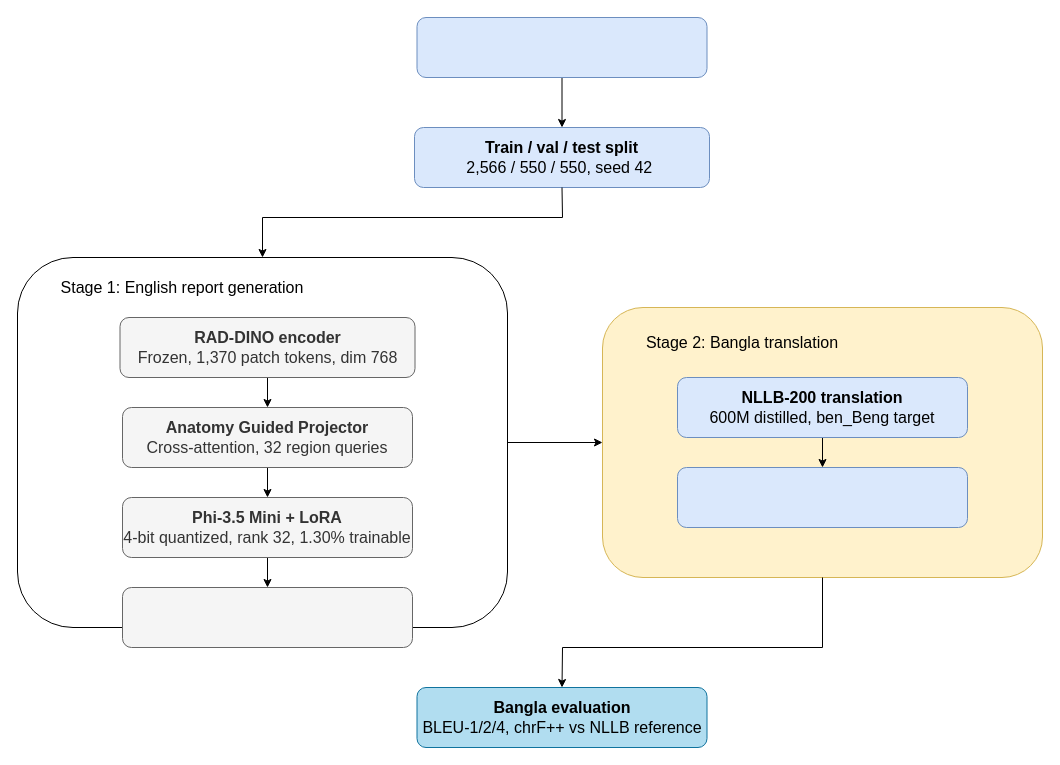
Image size: 1060x765. Some labels were removed from this diagram. The shapes that lost their labels are listed below. From the top down, each one's centre as x and y in pixels, then its label:
At (x=561, y=47): "IU X-ray dataset 7,470 images, filtered to 3,666 pairs".
At (x=822, y=497): "Bangla reference construction NLLB-200 applied to EN reference".
At (x=267, y=617): "English report + Stage 1 evaluation BLEU, ROUGE, chrF++, clinical F1".
